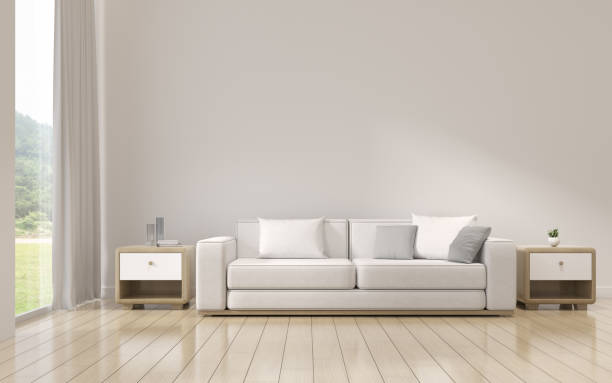small plant: (545, 225, 561, 246)
sofa: (192, 212, 520, 320)
